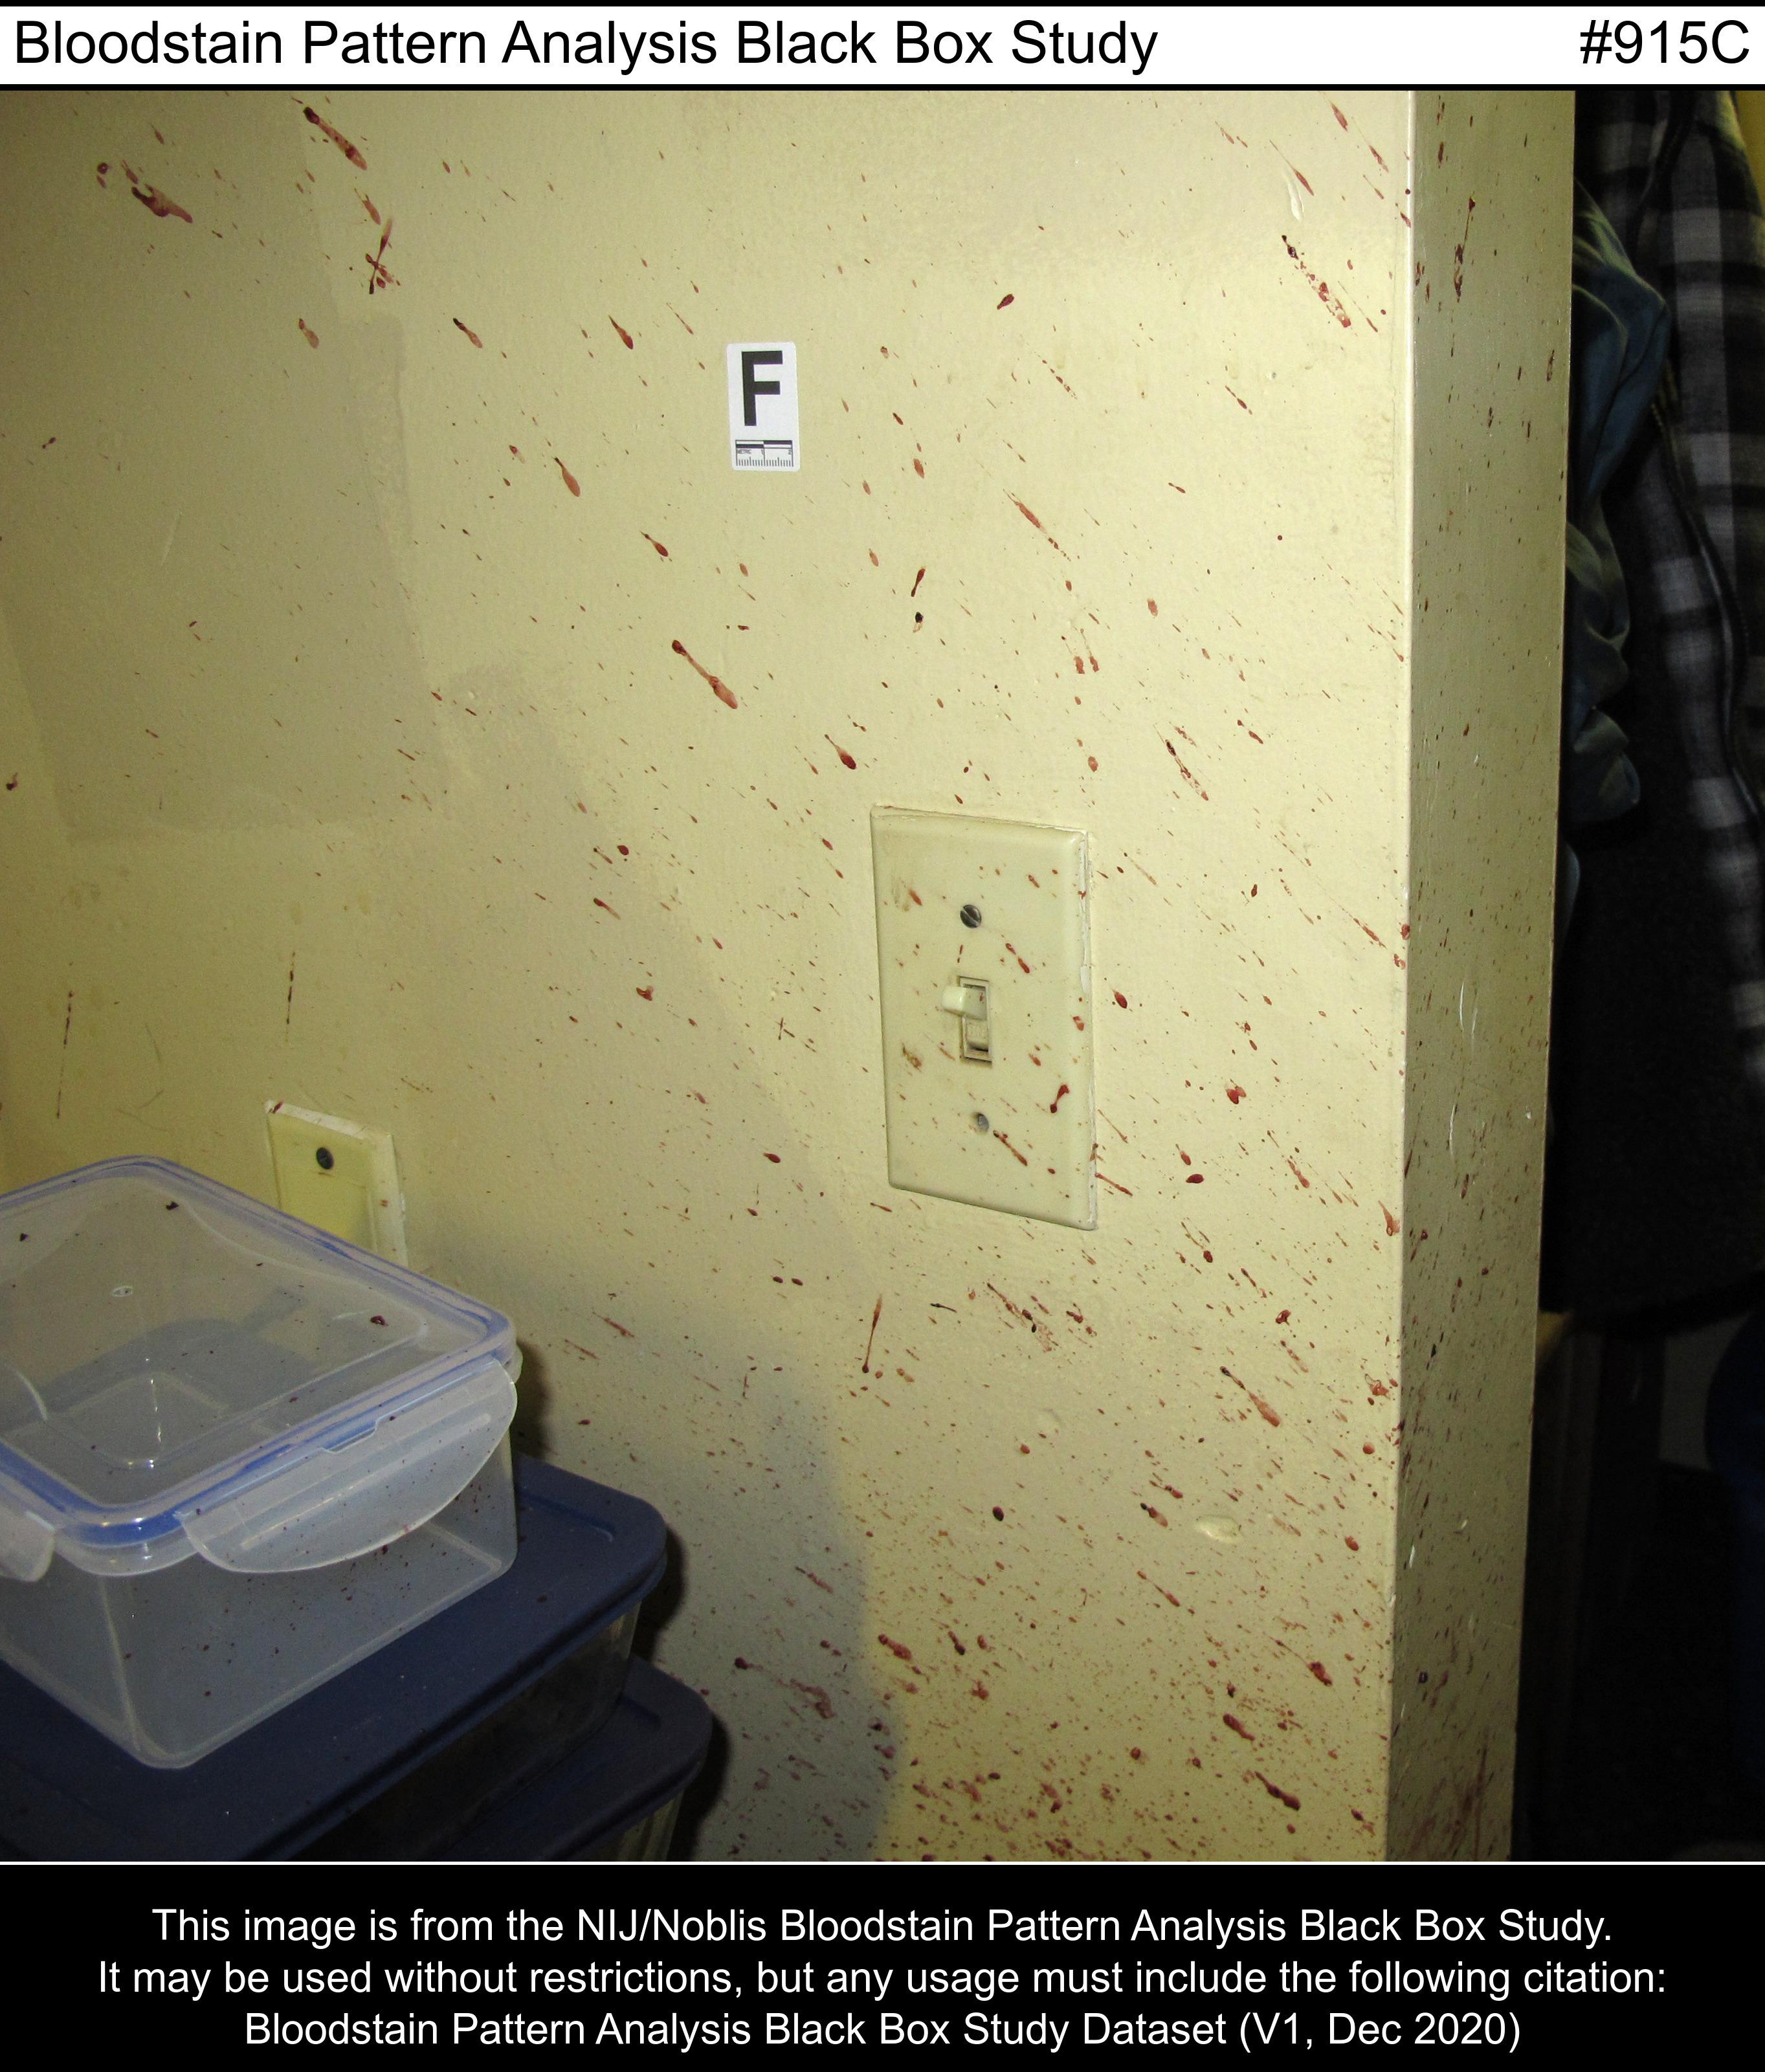Impact: (53, 117, 1511, 1846)
